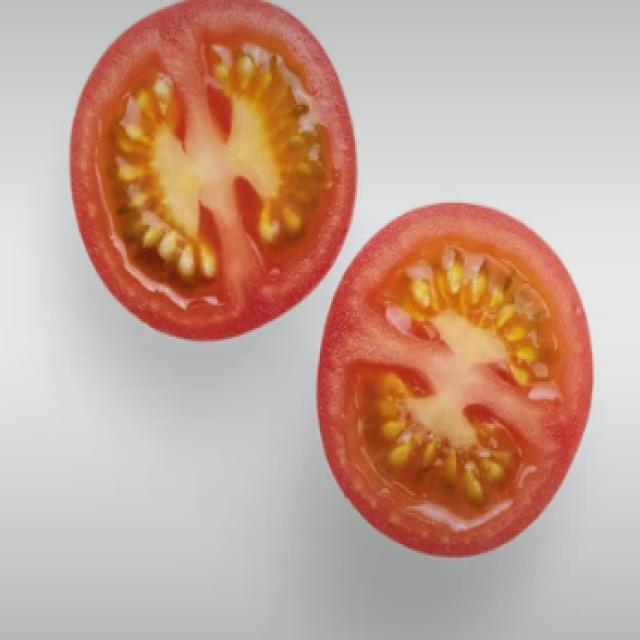Tomato: (307, 202, 598, 570), (70, 4, 345, 337)
